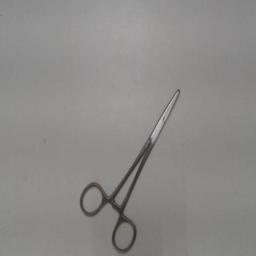Mayo Needle Holder: (77, 81, 187, 255)
